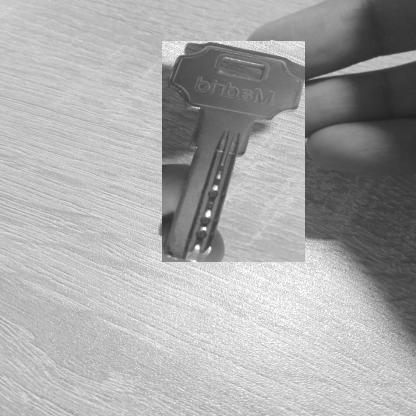key: (162, 41, 305, 262)
